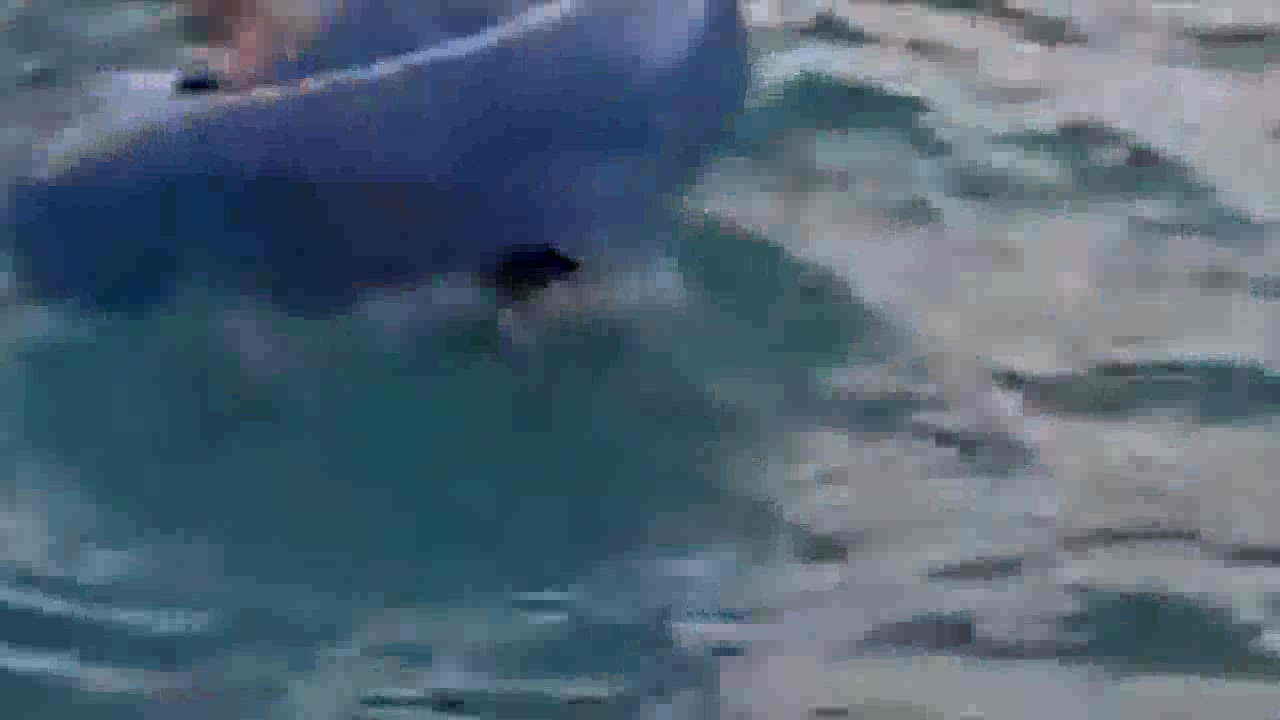Drowning: (376, 164, 710, 385)
